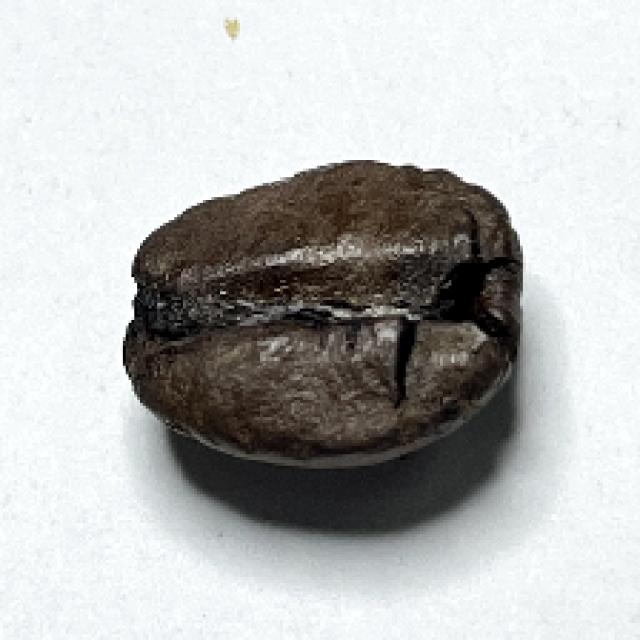bean: (118, 159, 526, 464)
